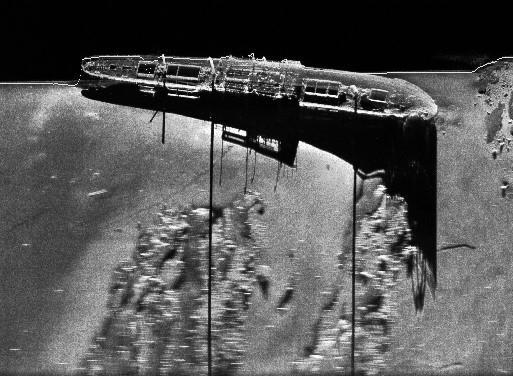ship: (73, 52, 439, 132)
